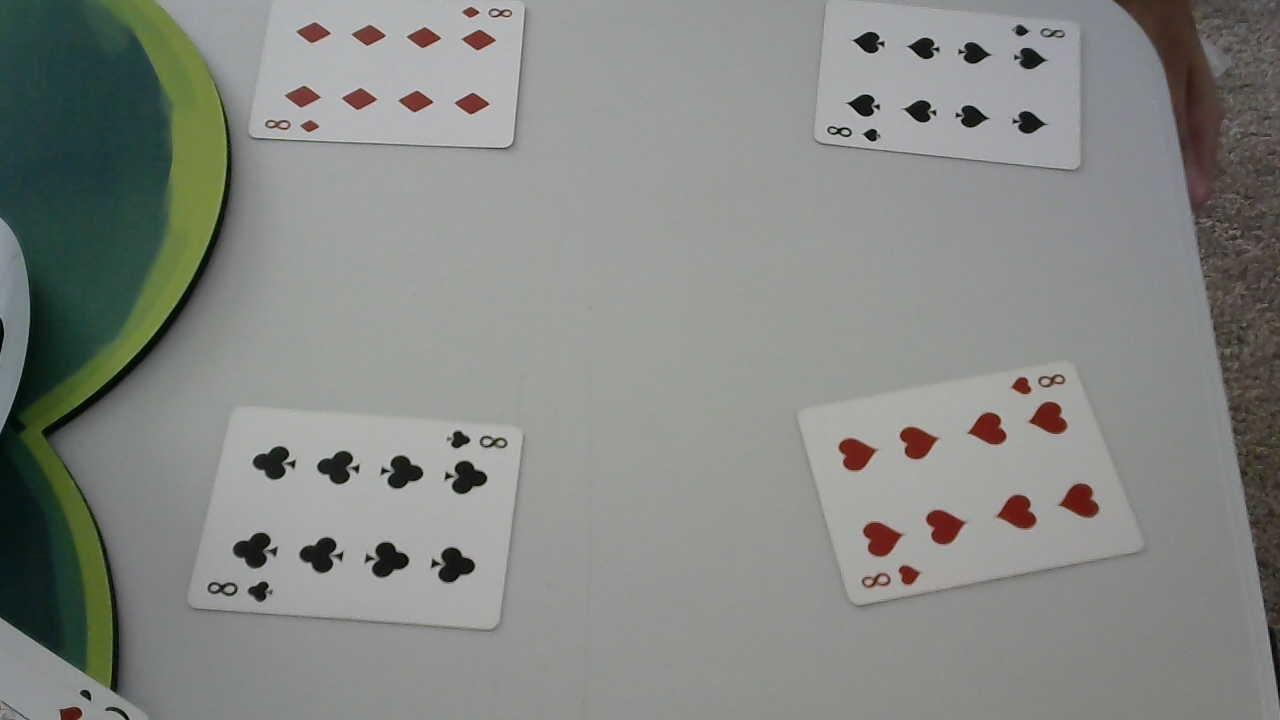8C: (441, 423, 514, 458), (206, 577, 273, 606)
8D: (260, 116, 323, 138), (460, 2, 516, 21)
8H: (857, 562, 926, 591), (1011, 368, 1066, 398)
8S: (823, 121, 884, 146), (1009, 18, 1067, 42)
